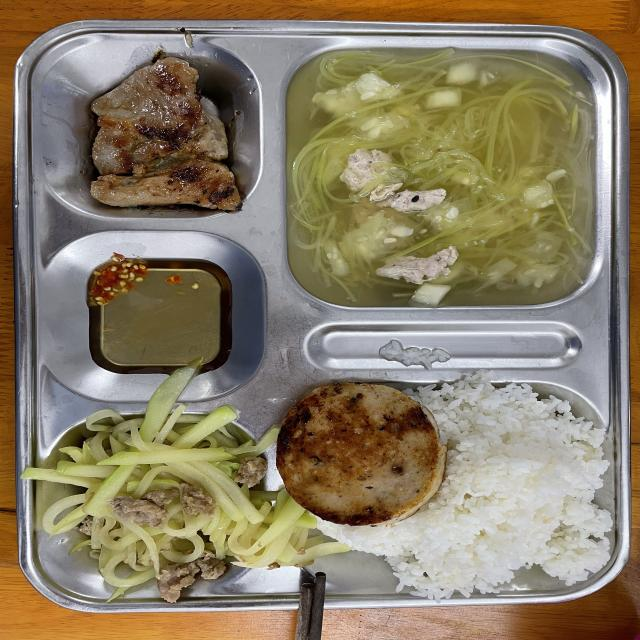com: (319, 371, 613, 600)
nuoc mam: (88, 254, 232, 373)
rau: (22, 360, 347, 603)
thit chien: (91, 57, 241, 210)
